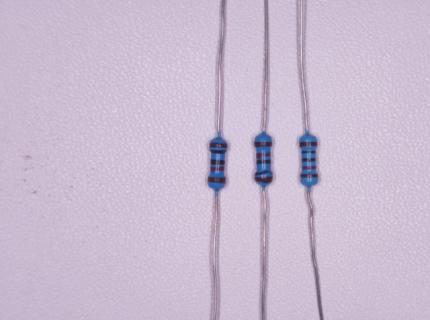Black band: (255, 170, 272, 176), (211, 160, 225, 165), (211, 150, 226, 154), (257, 160, 270, 164), (302, 158, 315, 162), (302, 151, 316, 154)
Brown band: (256, 177, 273, 183), (209, 143, 227, 148), (208, 177, 226, 182), (299, 142, 317, 147), (255, 142, 272, 147), (301, 174, 318, 177)
Red band: (257, 153, 270, 159), (210, 167, 224, 171), (303, 166, 316, 169)
